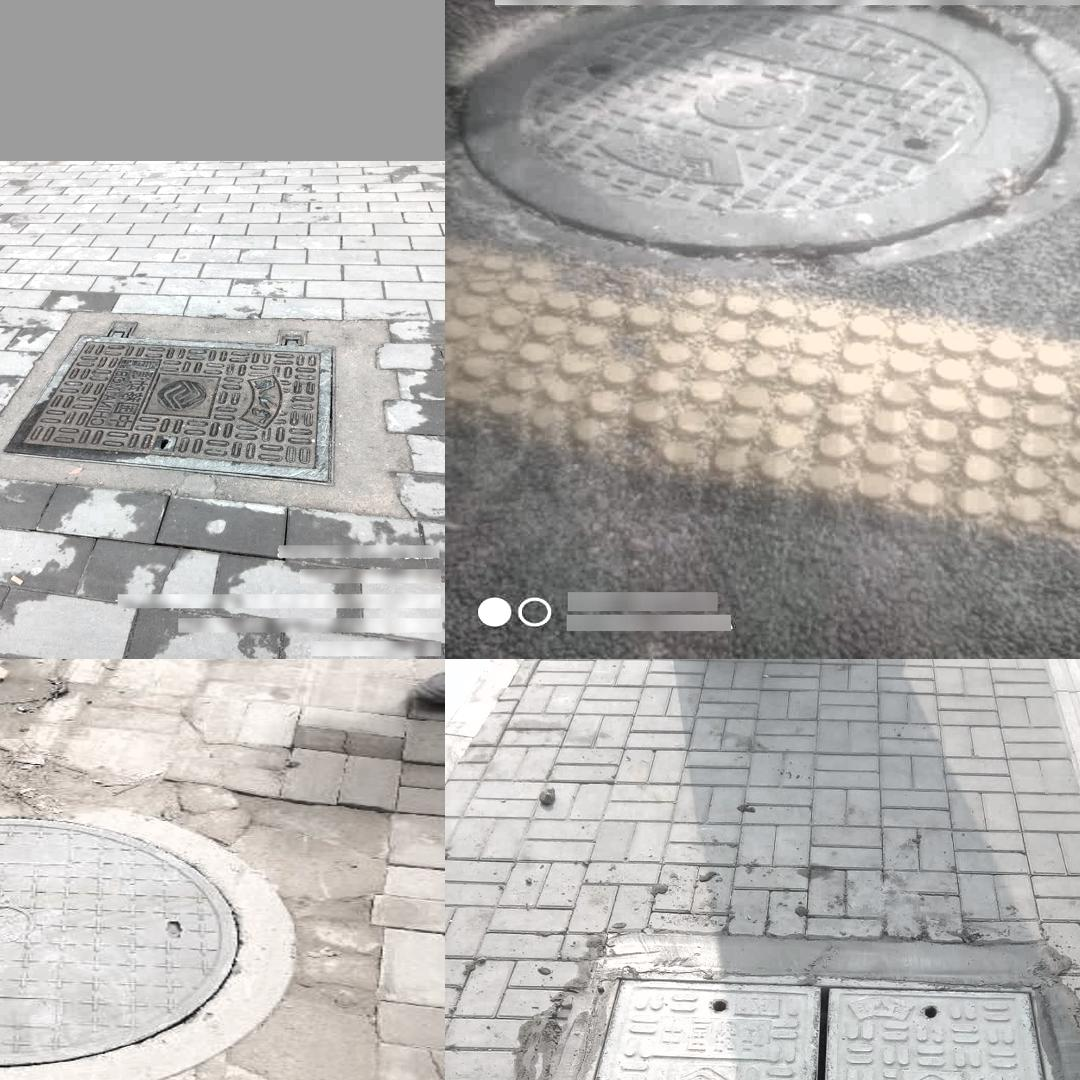good: (477, 0, 1080, 279), (0, 799, 299, 1080), (542, 974, 1080, 1080), (0, 324, 336, 485)
